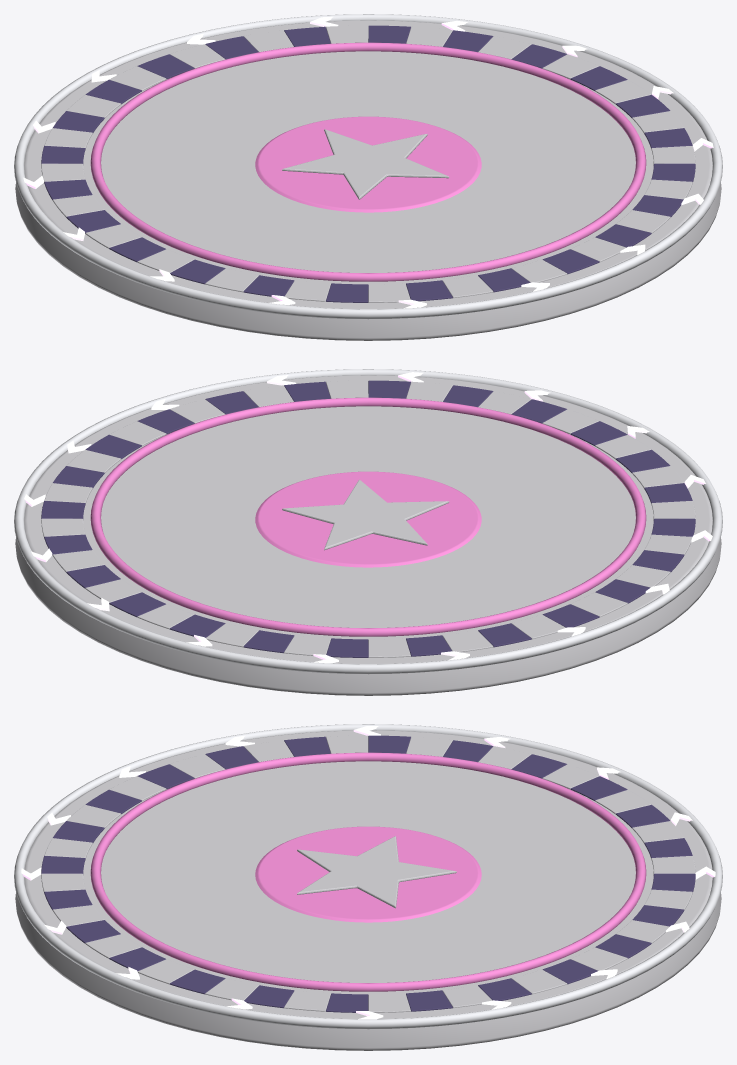
File: podium-top.glb
The picture shows the model from 3 angles, top to bottom: view 1: azimuth 30°, elevation 25°; view 2: azimuth 150°, elevation 25°; view 3: azimuth 270°, elevation 25°; orthographic projection.
Parts seen in each view (by area): view 1: deck, checker, deckrim, emblem, innerring, star; view 2: deck, checker, deckrim, emblem, innerring, star; view 3: deck, checker, deckrim, emblem, innerring, star.
Boxes of the visible parts, x1=… form: deck: x1=15, y1=20, x2=721, y2=340; checker: x1=41, y1=25, x2=695, y2=302; deckrim: x1=14, y1=14, x2=722, y2=319; emblem: x1=255, y1=116, x2=481, y2=212; innerring: x1=90, y1=42, x2=646, y2=281; star: x1=282, y1=129, x2=449, y2=199; deck: x1=15, y1=375, x2=721, y2=695; checker: x1=41, y1=380, x2=695, y2=657; deckrim: x1=14, y1=369, x2=722, y2=674; emblem: x1=255, y1=471, x2=481, y2=567; innerring: x1=90, y1=397, x2=646, y2=636; star: x1=282, y1=479, x2=449, y2=550; deck: x1=15, y1=730, x2=721, y2=1050; checker: x1=41, y1=735, x2=695, y2=1012; deckrim: x1=14, y1=724, x2=722, y2=1029; emblem: x1=255, y1=826, x2=481, y2=922; innerring: x1=90, y1=752, x2=646, y2=991; star: x1=297, y1=836, x2=456, y2=908.
Size of the model in its own units: 6.76 by 0.37 by 6.76.
